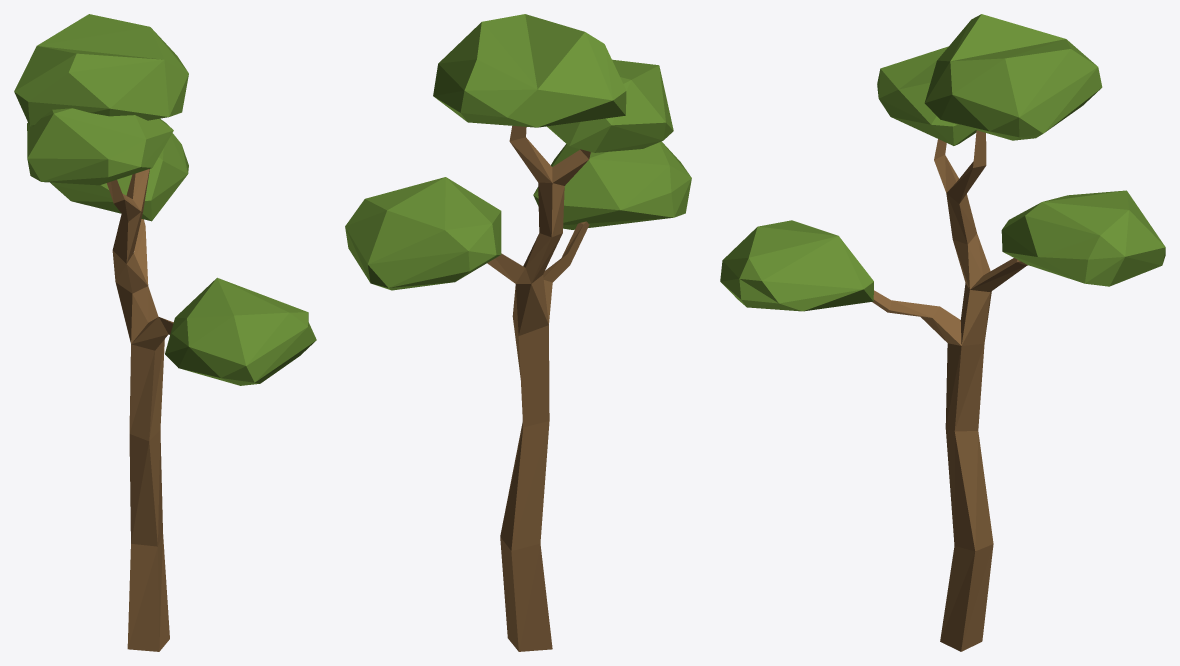
Rendered from plant_L02.FBX.
3 views of the same model, side by side, from view 1: azimuth 30°, elevation 25°; view 2: azimuth 150°, elevation 25°; view 3: azimuth 270°, elevation 25° (orthographic). The views are drawn at different scales.
Parts seen in each view (by area): view 1: plant_L02; view 2: plant_L02; view 3: plant_L02.
Boxes of the visible parts, left/top/right/bottom form: plant_L02: left=14, top=14, right=316, bottom=651; plant_L02: left=345, top=14, right=691, bottom=651; plant_L02: left=720, top=14, right=1165, bottom=651.
Size of the model in its own units: 143 by 361 by 244.
Materials: 1 (1 with a texture image).
